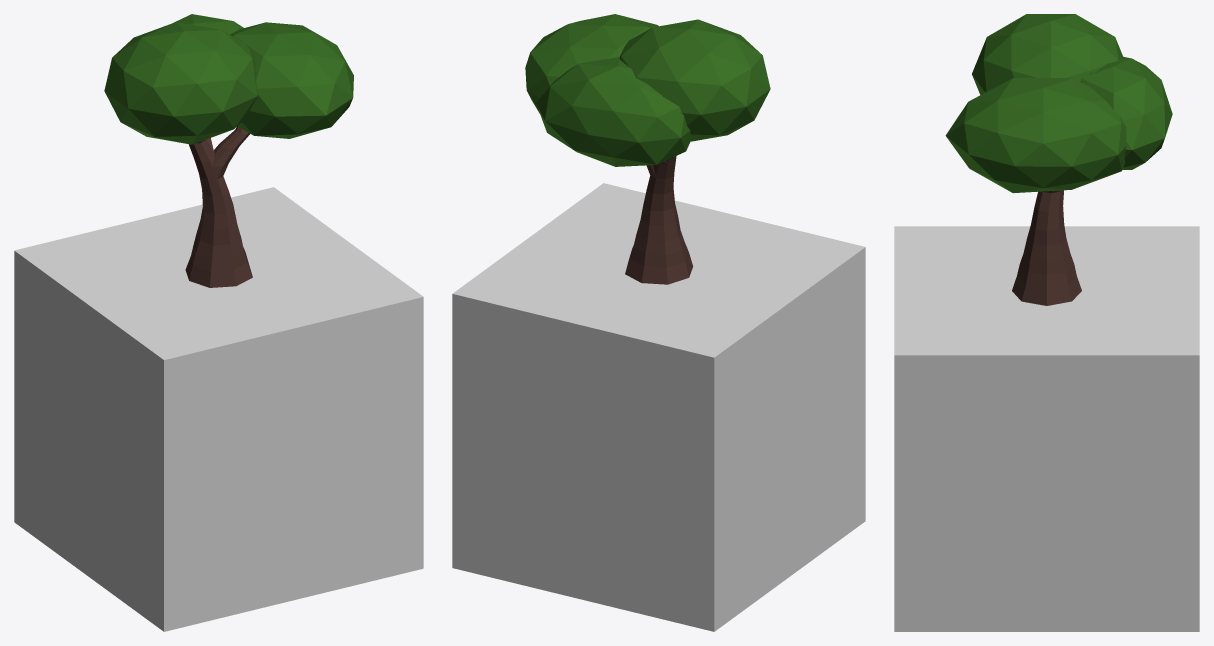
The model's file is OakTrees.fbx.
3 renders of one model, left to right at view 1: azimuth 30°, elevation 25°; view 2: azimuth 150°, elevation 25°; view 3: azimuth 270°, elevation 25°, orthographic.
Visible parts, largest first — view 1: Cube.001, Cube; view 2: Cube.001, Cube; view 3: Cube.001, Cube.
Part boxes in pixels (x1,y1,x2,y2): Cube.001: [14, 187, 423, 631]; Cube: [104, 14, 353, 287]; Cube.001: [452, 183, 865, 631]; Cube: [525, 14, 770, 284]; Cube.001: [894, 226, 1199, 631]; Cube: [945, 14, 1172, 305].
Size of the model in its own units: 200 by 383 by 200.
1 material, 1 textured.
